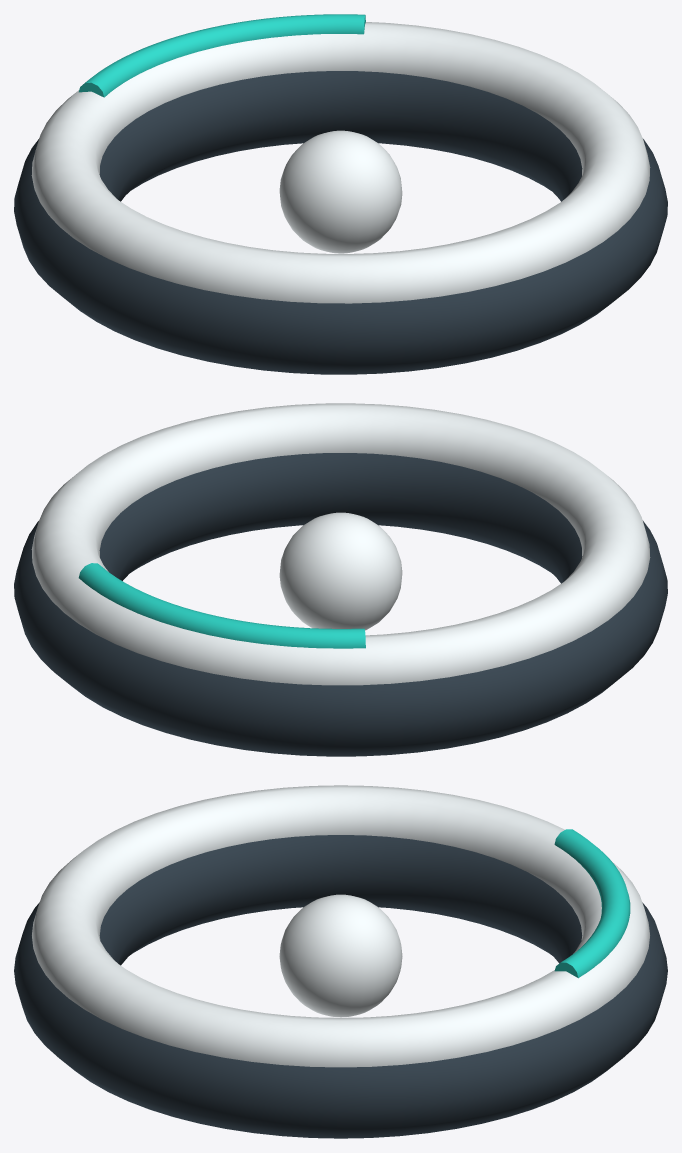
The model's file is cursor.glb.
3 renders of one model, top to bottom at view 1: azimuth 30°, elevation 25°; view 2: azimuth 150°, elevation 25°; view 3: azimuth 270°, elevation 25°, orthographic.
Visible parts, largest first — view 1: Pointer / contrast rim, Pointer / pearl ring, Pointer / precision dot, Pointer / orientation inlay; view 2: Pointer / contrast rim, Pointer / pearl ring, Pointer / precision dot, Pointer / orientation inlay; view 3: Pointer / contrast rim, Pointer / pearl ring, Pointer / precision dot, Pointer / orientation inlay.
Boxes of the visible parts, left/top/right/bottom form: Pointer / contrast rim: left=14, top=71, right=667, bottom=374; Pointer / pearl ring: left=31, top=22, right=650, bottom=303; Pointer / precision dot: left=279, top=130, right=402, bottom=253; Pointer / orientation inlay: left=79, top=14, right=365, bottom=97; Pointer / contrast rim: left=14, top=453, right=667, bottom=756; Pointer / pearl ring: left=31, top=403, right=650, bottom=685; Pointer / precision dot: left=279, top=512, right=402, bottom=630; Pointer / orientation inlay: left=78, top=563, right=365, bottom=648; Pointer / contrast rim: left=14, top=835, right=667, bottom=1138; Pointer / pearl ring: left=32, top=785, right=649, bottom=1067; Pointer / precision dot: left=279, top=894, right=402, bottom=1017; Pointer / orientation inlay: left=554, top=829, right=630, bottom=978.
Size of the model in its own units: 0.0202 by 0.00415 by 0.0202.
